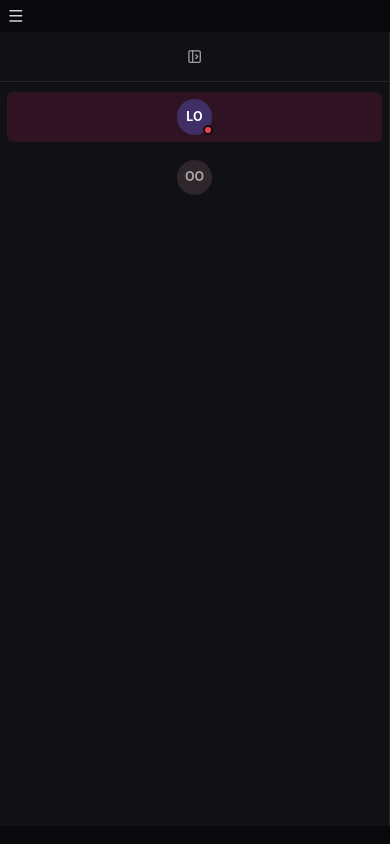
ChannelNavigation › closes the drawer after a viewer selects a Channel
Click the button named "Open Channel drawer".
click(16, 16)  # box [0,0,32,32]
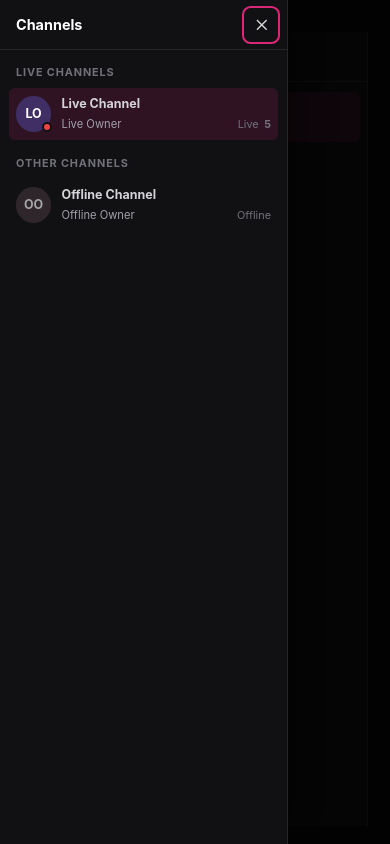
Click the link with aria-label "Offline Channel by Offline Owner".
click(34, 205)  # box [9,179,278,231]
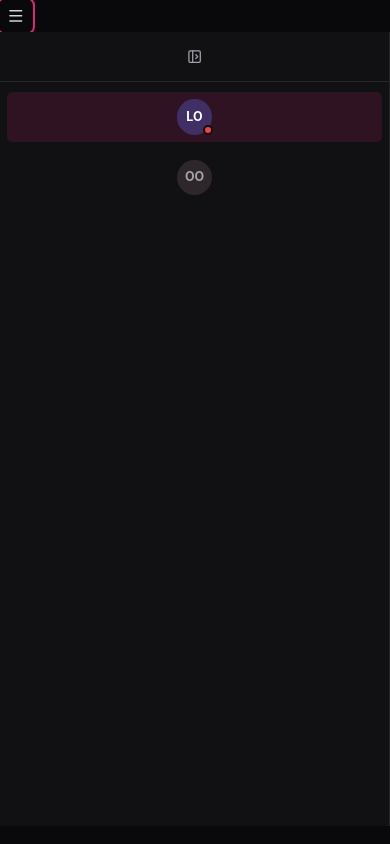
Expected: the heading "Channels" is gone
